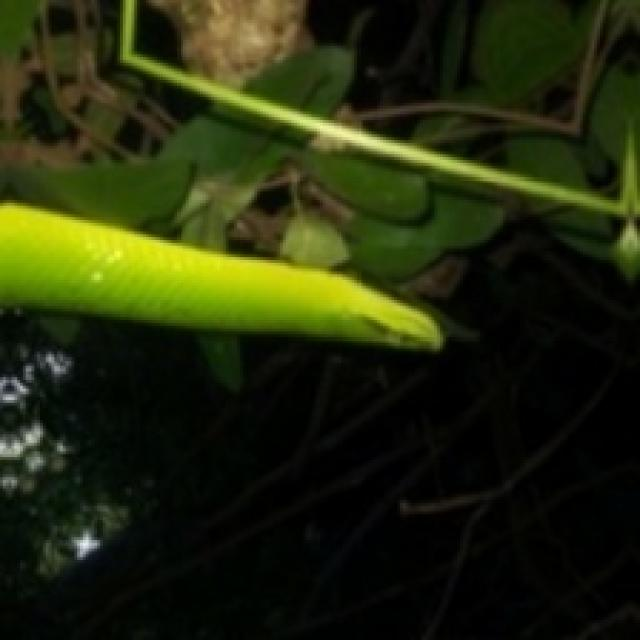red-tailed green ratsnake: (0, 203, 440, 349)
